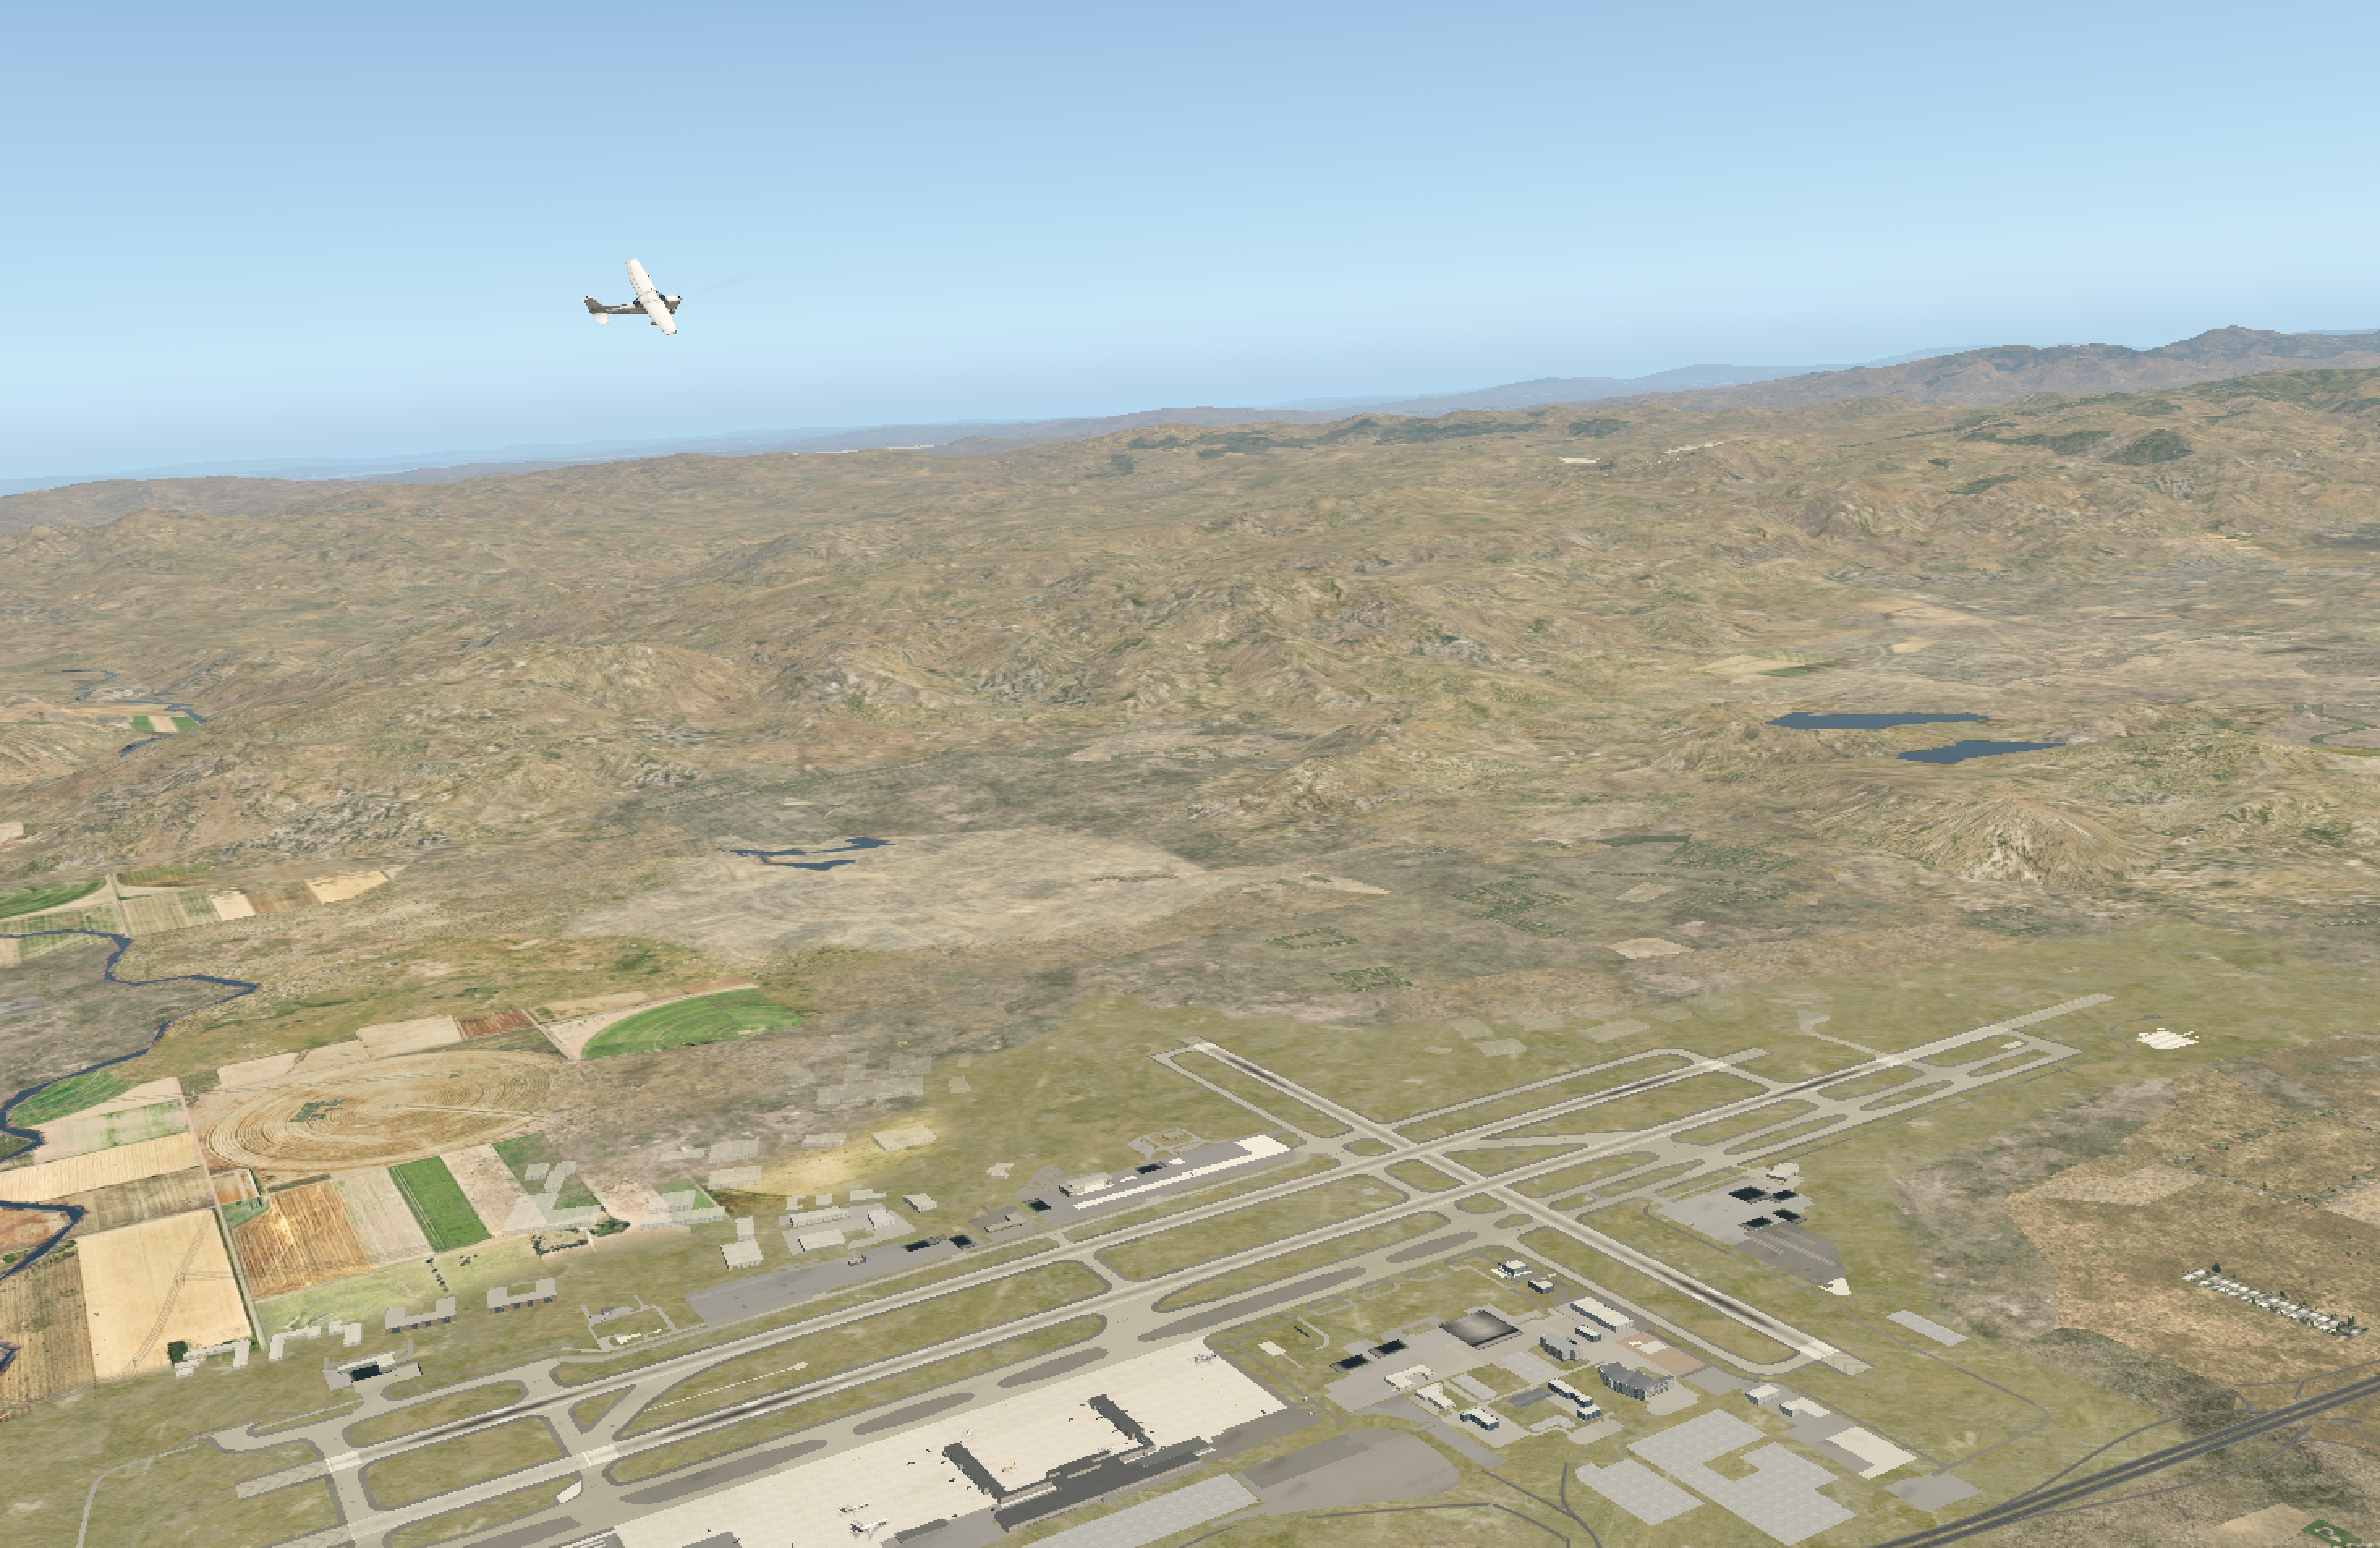aircraft: (609, 286, 699, 319)
